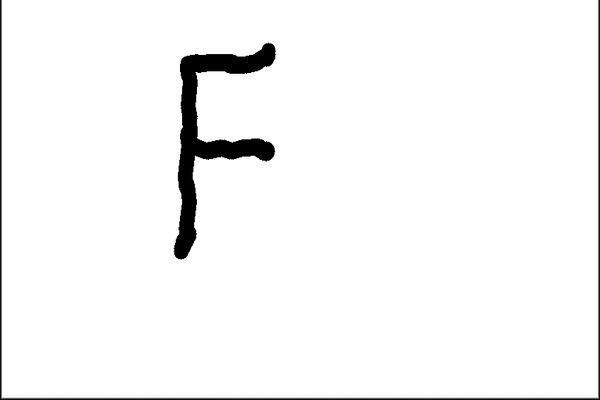F: (166, 40, 282, 262)
